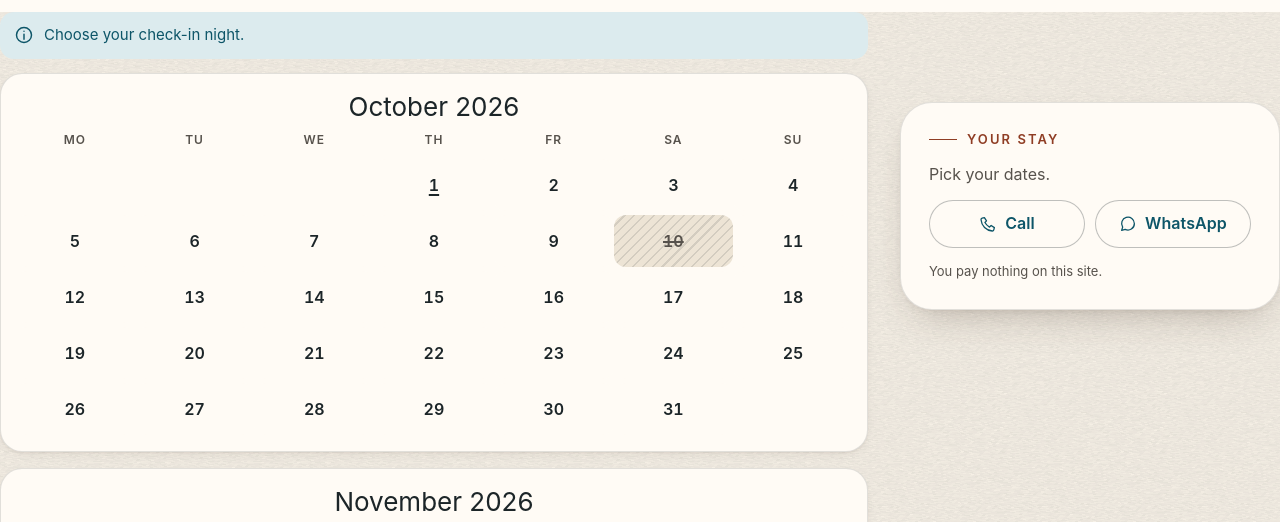
Scenario: AvailabilityPlanner › does not let a booked day be a check-in, but lets it be the check-out
Click the button "7" below "October 2026" at {"x": 314, "y": 241}, box x1=254 y1=215 x2=374 y2=267
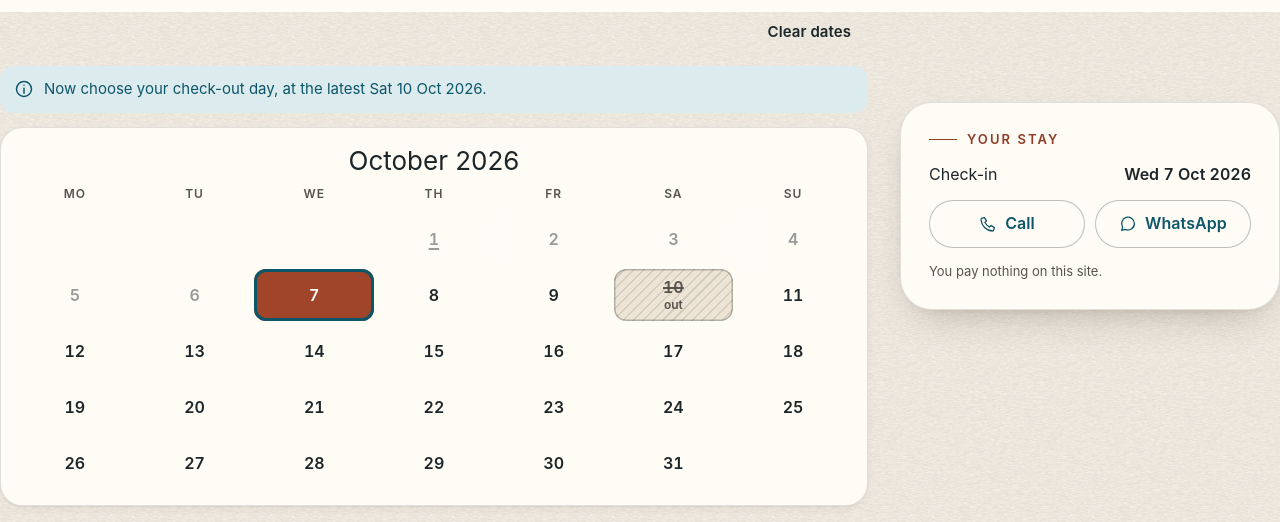
Click the button "10 out" at {"x": 673, "y": 295}, box x1=614 y1=269 x2=733 y2=321
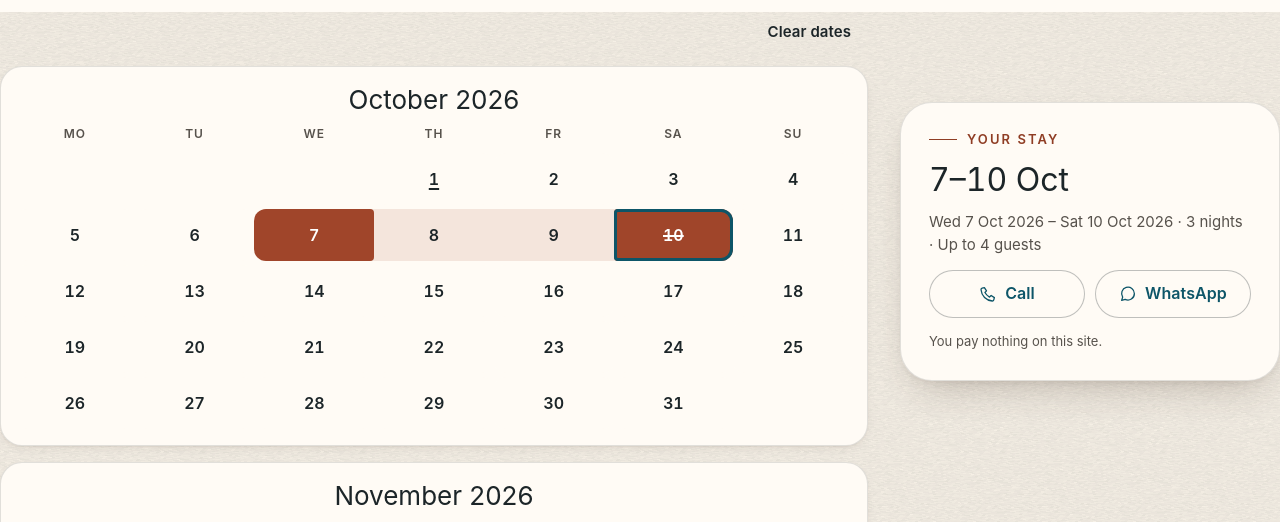
Now the text "3 nights" is shown, box x1=1186 y1=212 x2=1243 y2=231
